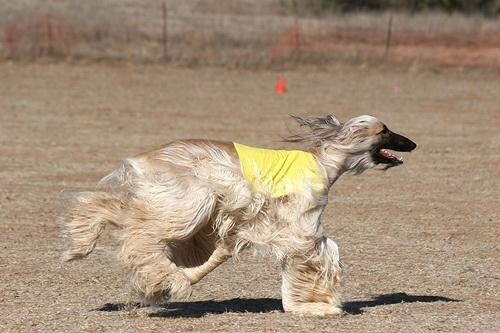dog: (55, 111, 418, 318)
